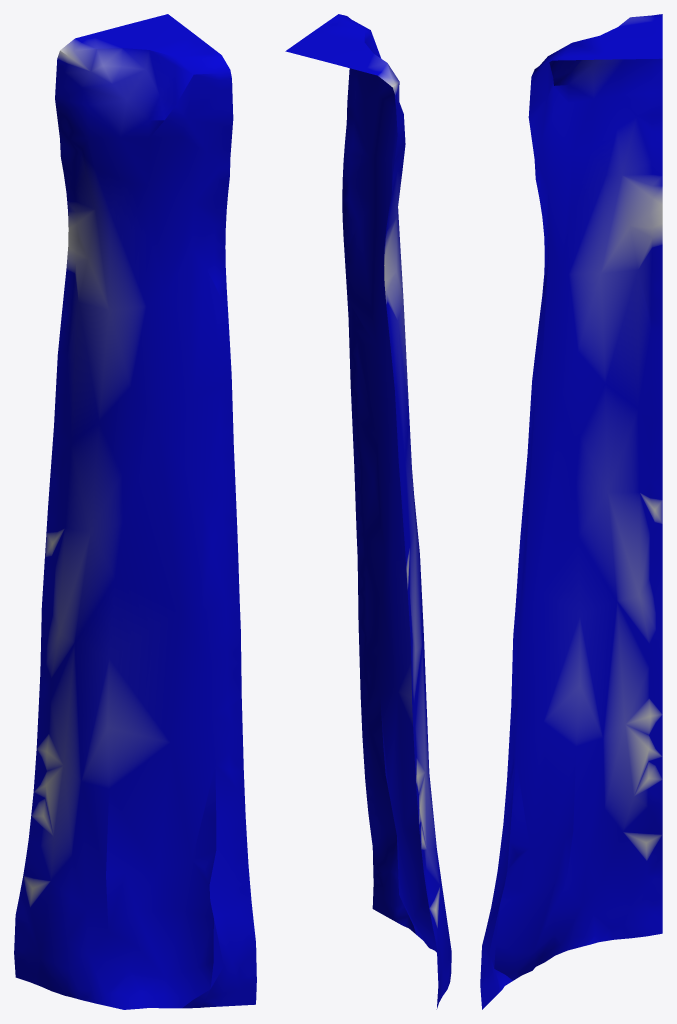
File: GeoTerrainCliffCorner01.fbx
3 renders of one model, left to right at view 1: azimuth 30°, elevation 25°; view 2: azimuth 150°, elevation 25°; view 3: azimuth 270°, elevation 25°, orthographic. The views are drawn at different scales.
Parts seen in each view (by area): view 1: GeoTerrainCliffCorner01_LOD0; view 2: GeoTerrainCliffCorner01_LOD0; view 3: GeoTerrainCliffCorner01_LOD0.
Boxes of the visible parts, left/top/right/bottom form: GeoTerrainCliffCorner01_LOD0: left=14, top=14, right=256, bottom=1009; GeoTerrainCliffCorner01_LOD0: left=285, top=14, right=451, bottom=1009; GeoTerrainCliffCorner01_LOD0: left=480, top=14, right=662, bottom=1009.
Size of what is drawn, in the model's own units: 261 by 1503 by 261.
